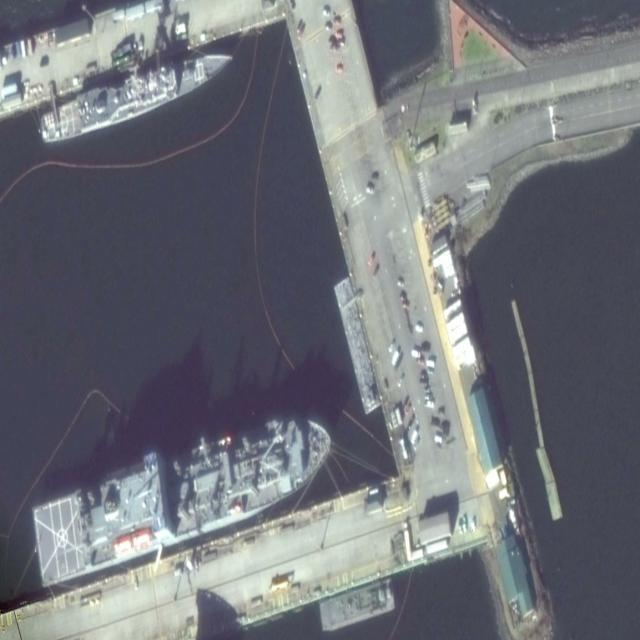Commander: (30, 398, 337, 593)
Frigate: (36, 33, 237, 153)
